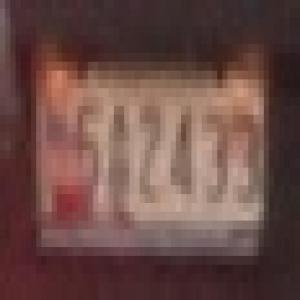Plate: (26, 41, 270, 263)
